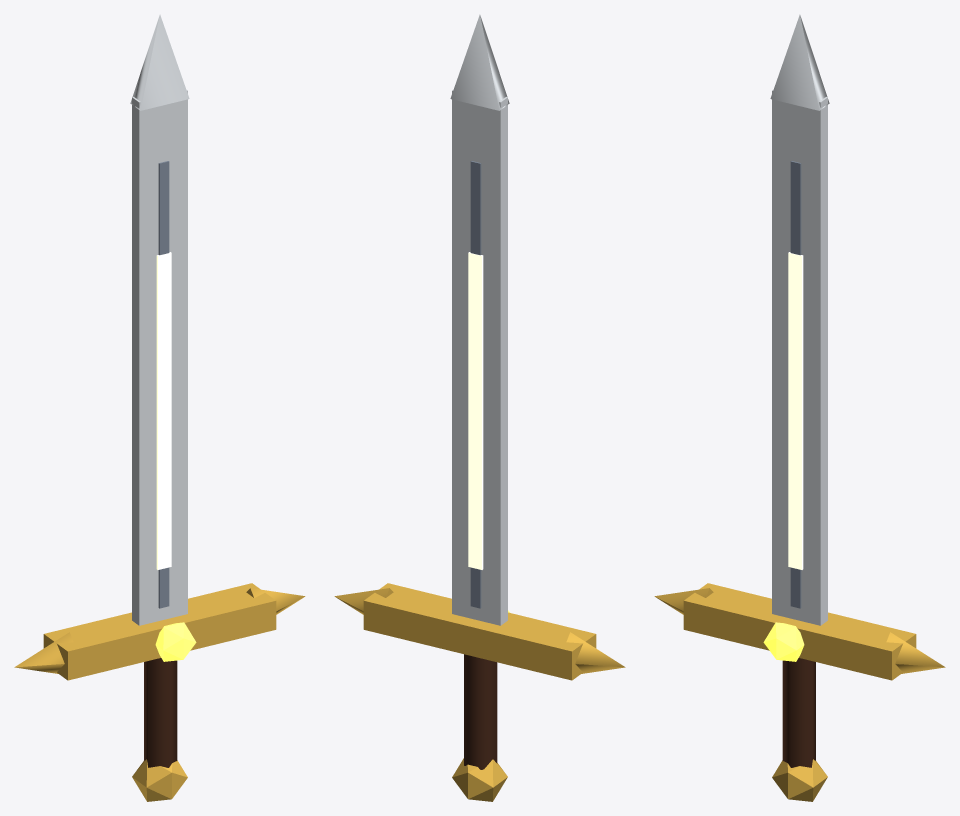
File: weapon_sword_t3.glb
3 renders of one model, left to right at view 1: azimuth 30°, elevation 25°; view 2: azimuth 150°, elevation 25°; view 3: azimuth 330°, elevation 25°, orthographic.
Visible parts, largest first — view 1: item_metal3, item_trim3, item_rune, item_leather3, item_darkMetal3, item_gem3; view 2: item_metal3, item_trim3, item_rune, item_leather3, item_darkMetal3; view 3: item_metal3, item_trim3, item_rune, item_leather3, item_darkMetal3, item_gem3.
Boxes of the visible parts, left/top/right/bottom form: item_metal3: left=130, top=14, right=189, bottom=625; item_trim3: left=14, top=583, right=305, bottom=801; item_rune: left=156, top=252, right=171, bottom=569; item_leather3: left=144, top=658, right=177, bottom=767; item_darkMetal3: left=158, top=161, right=169, bottom=608; item_gem3: left=155, top=622, right=196, bottom=661; item_metal3: left=450, top=14, right=509, bottom=625; item_trim3: left=334, top=583, right=625, bottom=801; item_rune: left=468, top=252, right=483, bottom=569; item_leather3: left=464, top=654, right=497, bottom=769; item_darkMetal3: left=470, top=161, right=481, bottom=608; item_metal3: left=770, top=14, right=829, bottom=625; item_trim3: left=654, top=583, right=945, bottom=801; item_rune: left=788, top=252, right=803, bottom=569; item_leather3: left=782, top=658, right=815, bottom=767; item_darkMetal3: left=790, top=161, right=801, bottom=608; item_gem3: left=763, top=622, right=804, bottom=661.
Size of the model in its own units: 0.42 by 1.08 by 0.0888.
